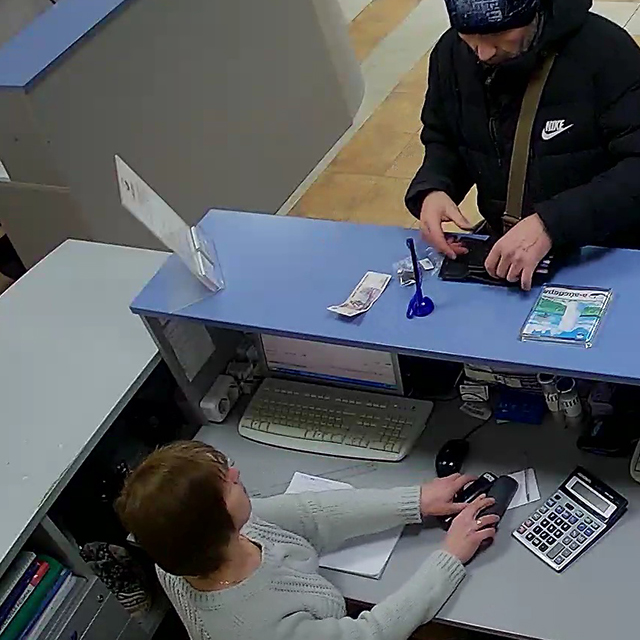banknotes: (324, 271, 393, 316)
